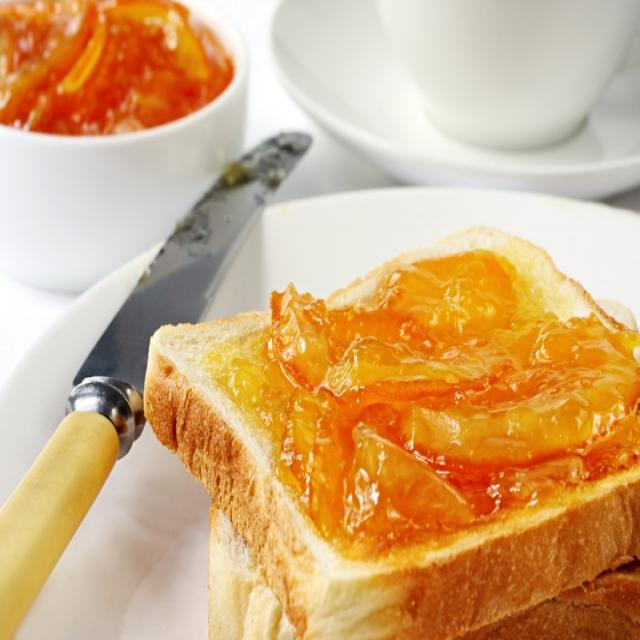Spread: (222, 265, 640, 553)
